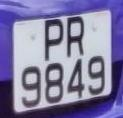4: (66, 55, 88, 105)
8: (41, 58, 68, 108)
9: (19, 60, 44, 113), (87, 52, 108, 101)
P: (41, 14, 67, 66)
R: (64, 12, 87, 63)
